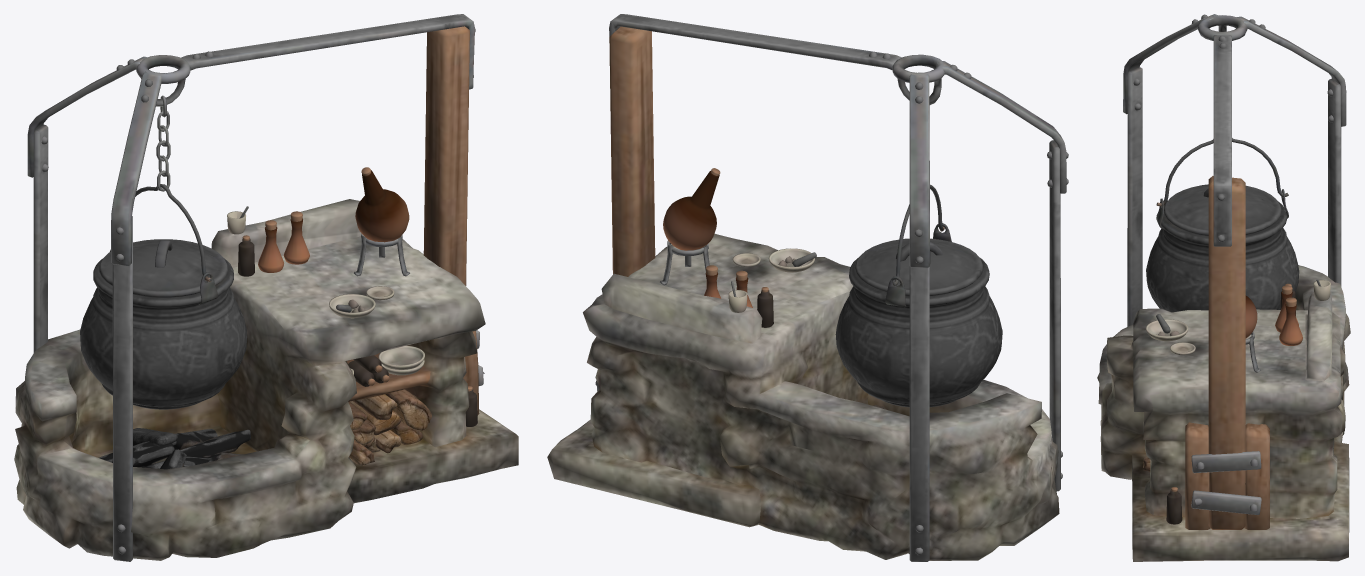
The model's file is alchemy_station.glb.
The picture shows the model from 3 angles, left to right: view 1: azimuth 30°, elevation 25°; view 2: azimuth 150°, elevation 25°; view 3: azimuth 270°, elevation 25°; orthographic projection. The views are drawn at different scales.
Visible parts, largest first — view 1: npc_props_alchemy_station_01; view 2: npc_props_alchemy_station_01; view 3: npc_props_alchemy_station_01.
Boxes of the visible parts, x1,y1,x2,y2 form: npc_props_alchemy_station_01: (14, 14, 518, 561); npc_props_alchemy_station_01: (547, 14, 1068, 561); npc_props_alchemy_station_01: (1097, 14, 1350, 561).
Bounding box in the file's own units: 2.68 × 2.6 × 1.47.
3 materials, 3 textured.
